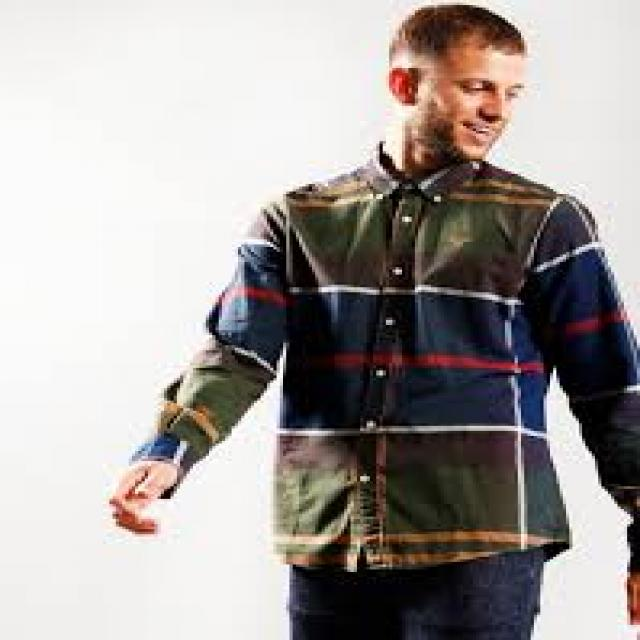plaid: (141, 138, 640, 564)
